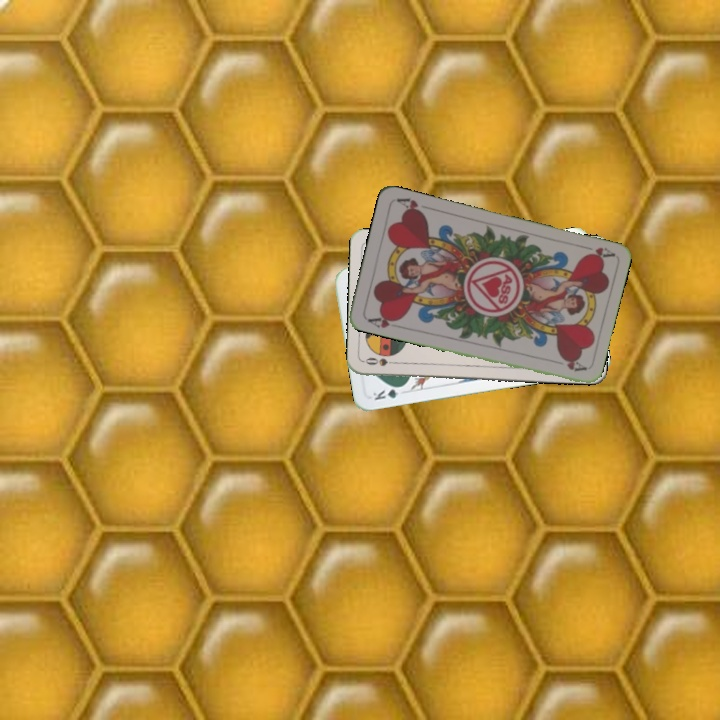GK: (369, 382, 407, 403)
HA: (575, 241, 616, 262), (364, 310, 403, 331)
SO: (361, 353, 402, 369)
